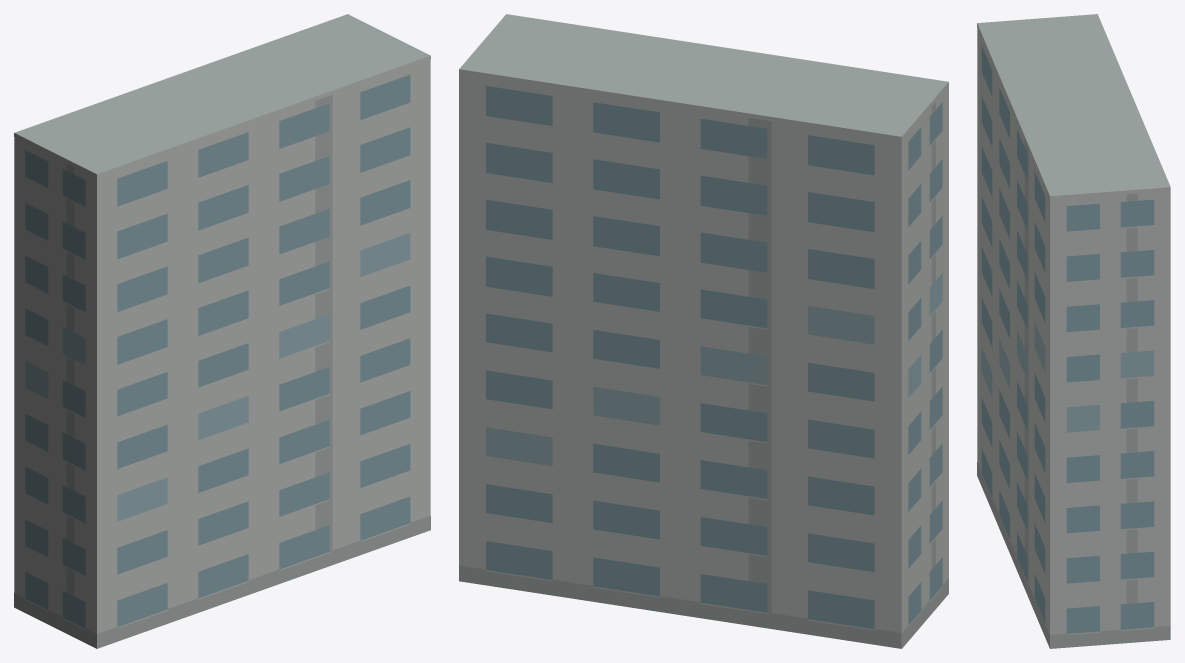
The model's file is residential-0bc8e56f-a8f6-4aa2-8d88-d3d313ded533.glb.
3 views of the same model, side by side, from view 1: azimuth 30°, elevation 25°; view 2: azimuth 150°, elevation 25°; view 3: azimuth 270°, elevation 25° (orthographic). The views are drawn at different scales.
Parts seen in each view (by area): view 1: residential-0bc8e56f-a8f6-4aa2-8d88-d3d313ded533.tmp; view 2: residential-0bc8e56f-a8f6-4aa2-8d88-d3d313ded533.tmp; view 3: residential-0bc8e56f-a8f6-4aa2-8d88-d3d313ded533.tmp.
Boxes of the visible parts, x1=… form: residential-0bc8e56f-a8f6-4aa2-8d88-d3d313ded533.tmp: x1=14, y1=14, x2=430, y2=648; residential-0bc8e56f-a8f6-4aa2-8d88-d3d313ded533.tmp: x1=459, y1=14, x2=948, y2=648; residential-0bc8e56f-a8f6-4aa2-8d88-d3d313ded533.tmp: x1=977, y1=14, x2=1170, y2=648.
Size of the model in its own units: 24.18 by 28 by 10.87.
